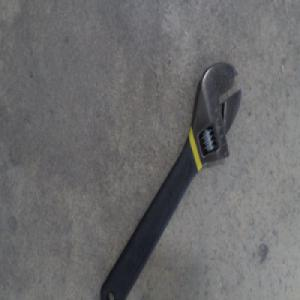AdjustableWrench: (100, 64, 243, 299)
